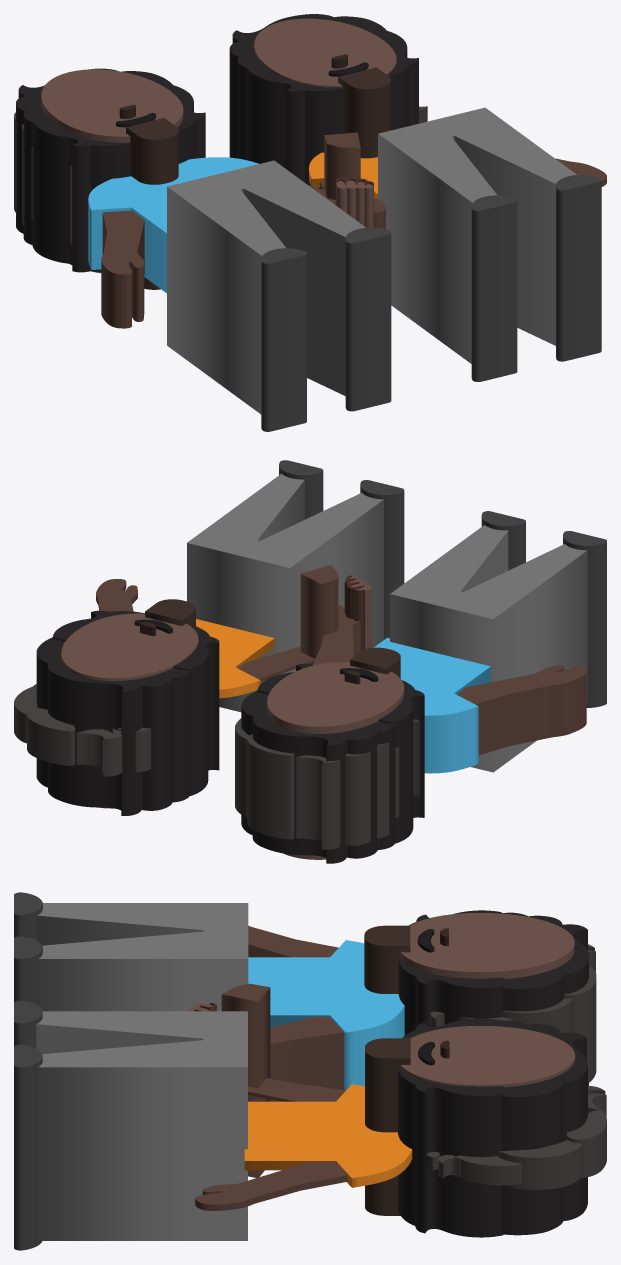
The model's file is emoji_u1f9d1_1f3ff_200d_1f91d_200d_1f9d1_1f3ff.glb.
The picture shows the model from 3 angles, top to bottom: view 1: azimuth 30°, elevation 25°; view 2: azimuth 150°, elevation 25°; view 3: azimuth 270°, elevation 25°; orthographic projection. The views are drawn at different scales.
Parts seen in each view (by area): view 1: emoji_u1f9d1_1f3ff_200d_1f91d_200d_1f9d1_1f3ff; view 2: emoji_u1f9d1_1f3ff_200d_1f91d_200d_1f9d1_1f3ff; view 3: emoji_u1f9d1_1f3ff_200d_1f91d_200d_1f9d1_1f3ff.
Part boxes in pixels (left/top/right/bottom): emoji_u1f9d1_1f3ff_200d_1f91d_200d_1f9d1_1f3ff: left=14, top=14, right=606, bottom=431; emoji_u1f9d1_1f3ff_200d_1f91d_200d_1f9d1_1f3ff: left=14, top=460, right=606, bottom=863; emoji_u1f9d1_1f3ff_200d_1f91d_200d_1f9d1_1f3ff: left=14, top=892, right=606, bottom=1250.
Bounding box in the file's own units: 0.0346 × 0.0114 × 0.0335.
